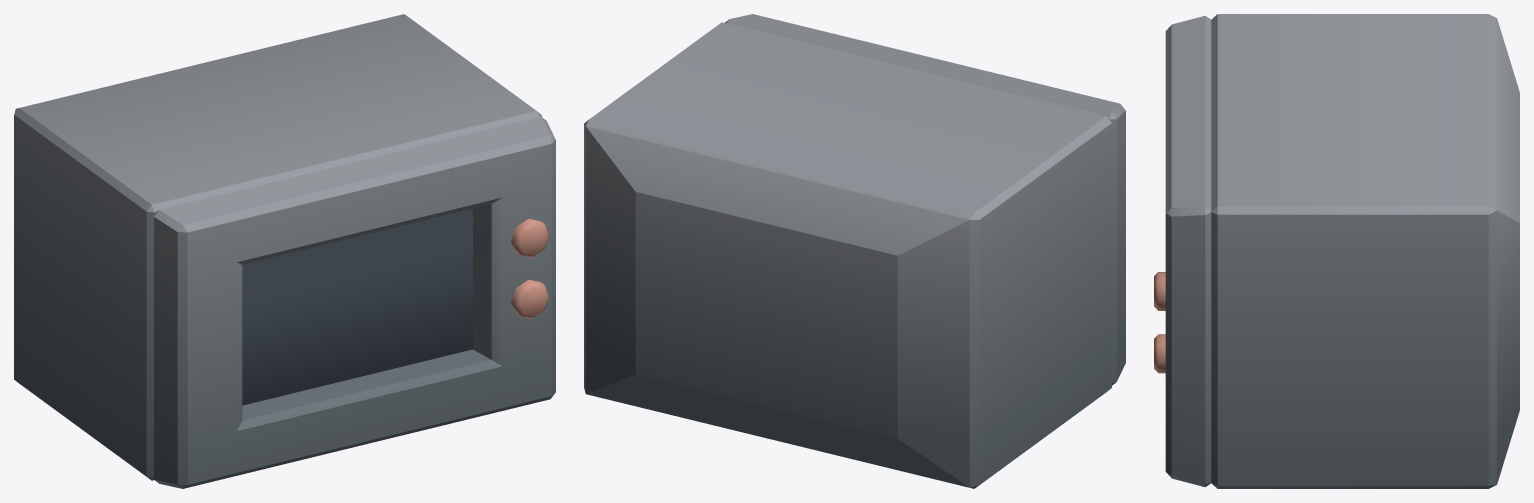
The model's file is Microwave_02.fbx.
3 renders of one model, left to right at view 1: azimuth 30°, elevation 25°; view 2: azimuth 150°, elevation 25°; view 3: azimuth 270°, elevation 25°, orthographic. The views are drawn at different scales.
Visible parts, largest first — view 1: Microwave_oven_door.001, Microwave_02; view 2: Microwave_02, Microwave_oven_door.001; view 3: Microwave_02, Microwave_oven_door.001.
Part boxes in pixels (<box>): Microwave_oven_door.001: <box>154,116,555,488</box>; Microwave_02: <box>14,14,541,480</box>; Microwave_02: <box>584,22,1111,488</box>; Microwave_oven_door.001: <box>725,14,1125,385</box>; Microwave_02: <box>1211,14,1519,488</box>; Microwave_oven_door.001: <box>1154,16,1211,486</box>.
Bounding box in the file's own units: 150 × 100 × 117.
